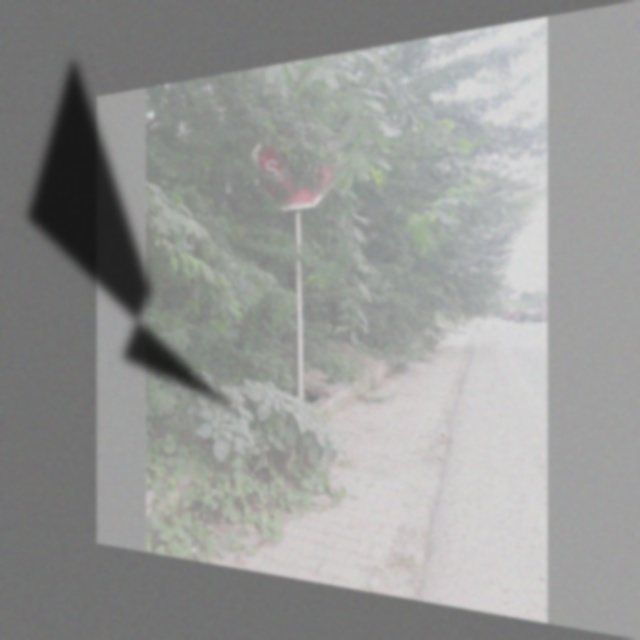Stop: (252, 122, 333, 213)
